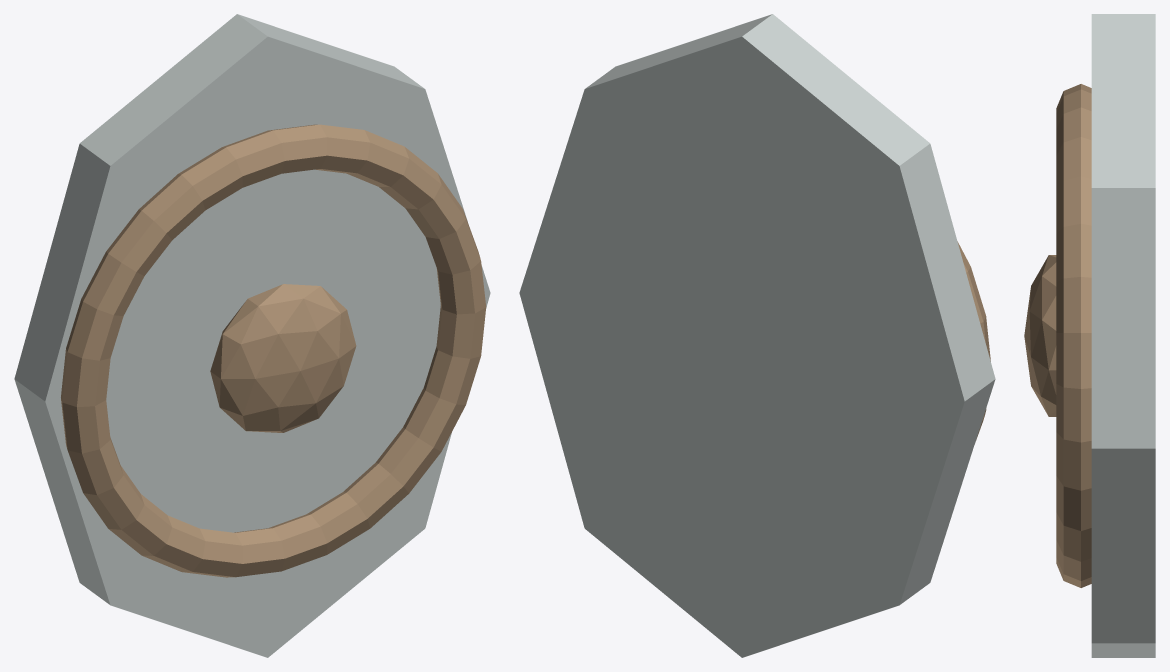
Rendered from iron-bulwark.glb.
3 renders of one model, left to right at view 1: azimuth 30°, elevation 25°; view 2: azimuth 150°, elevation 25°; view 3: azimuth 270°, elevation 25°, orthographic. The views are drawn at different scales.
Parts seen in each view (by area): view 1: ShieldBody, ShieldRim, ShieldBoss; view 2: ShieldBody, ShieldRim; view 3: ShieldBody, ShieldRim, ShieldBoss.
Part boxes in pixels (x1,y1,x2,y2): ShieldBody: (14,14,490,657); ShieldRim: (61,124,486,577); ShieldBoss: (210,284,356,432); ShieldBody: (519,14,995,657); ShieldRim: (957,241,990,440); ShieldBody: (1091,14,1155,657); ShieldRim: (1056,84,1091,587); ShieldBoss: (1024,255,1056,416).
Size of the model in its own units: 1.5 by 2 by 0.37.
